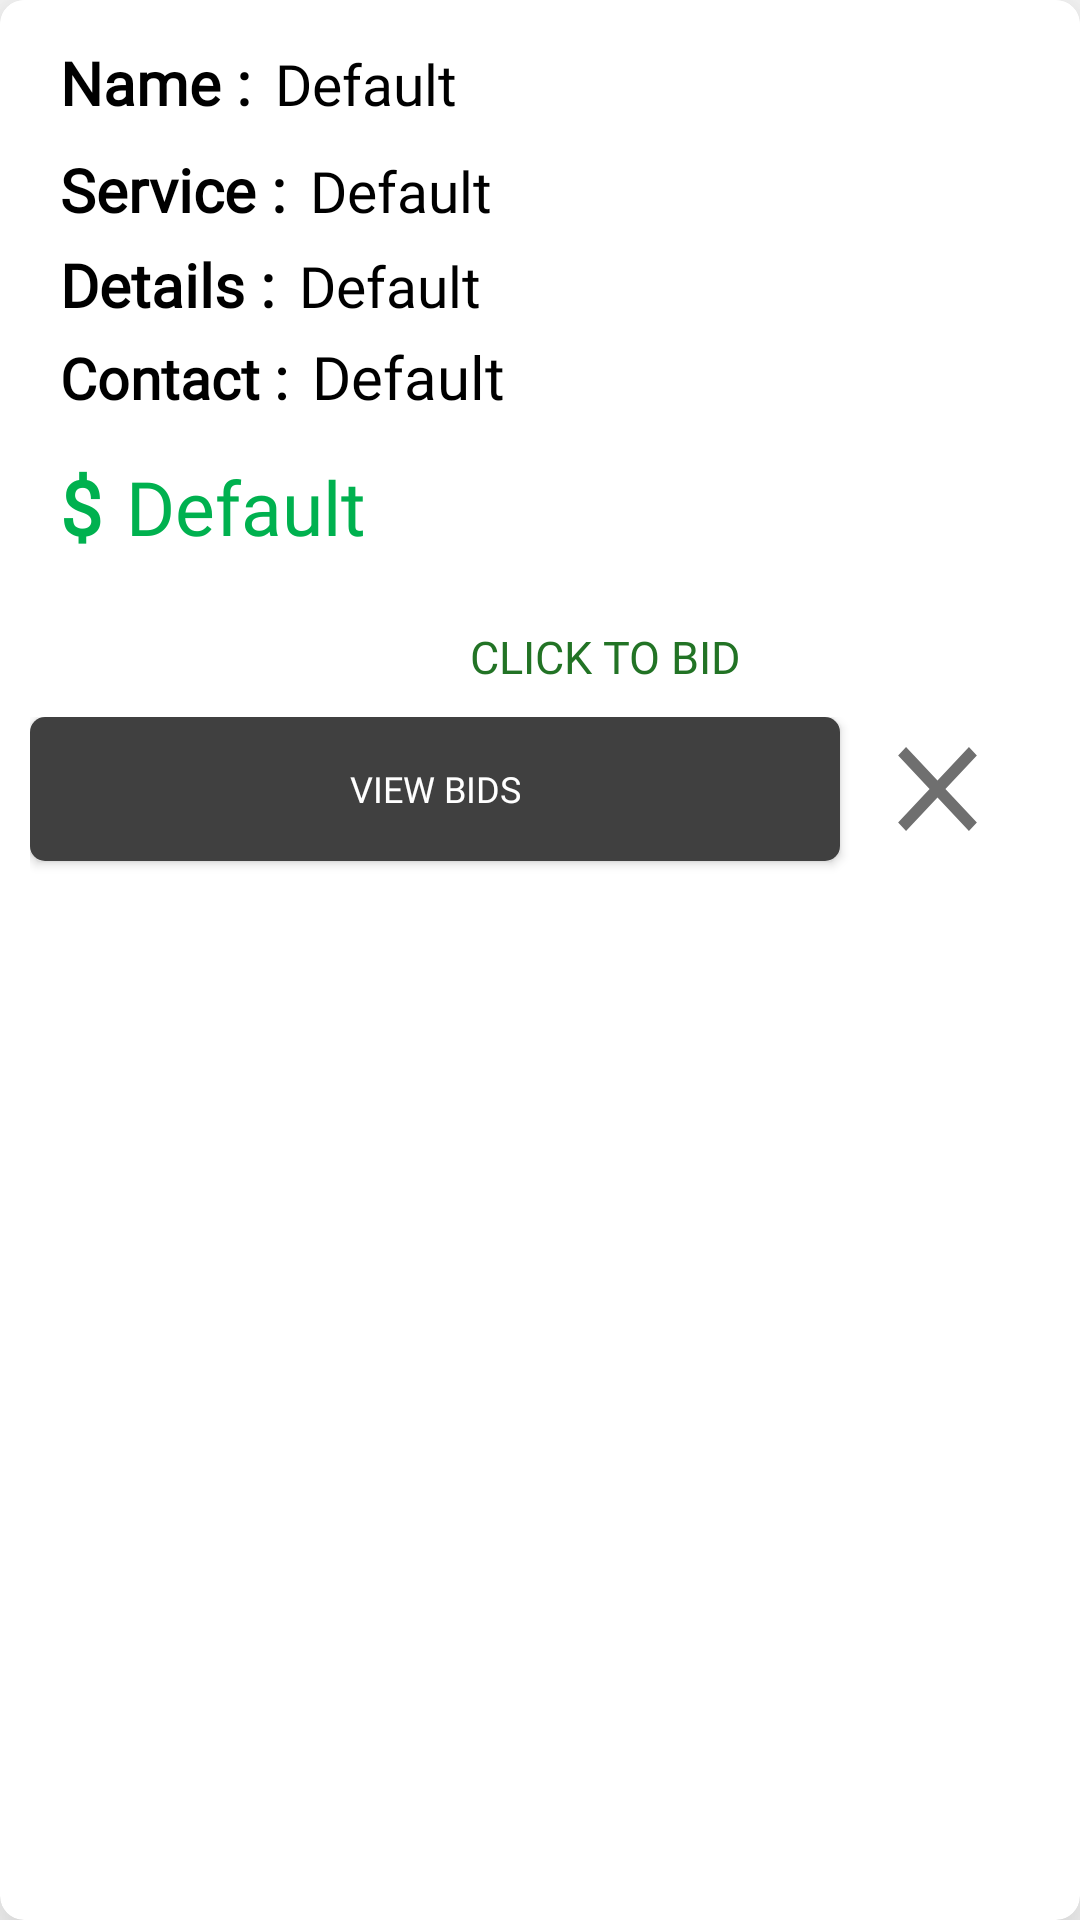

Icons on this 1080x1920 Android screen, each with the point to tap as point (x, y):
delete: point (937, 789)
